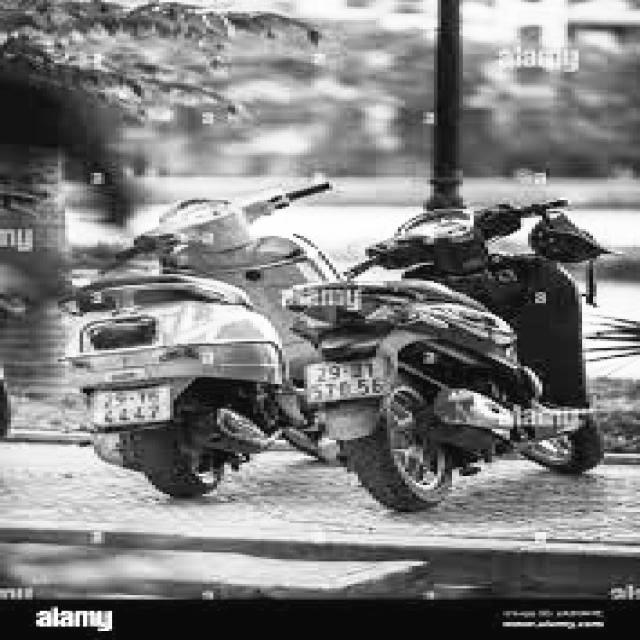Bike: (300, 197, 640, 511), (28, 214, 280, 498)
